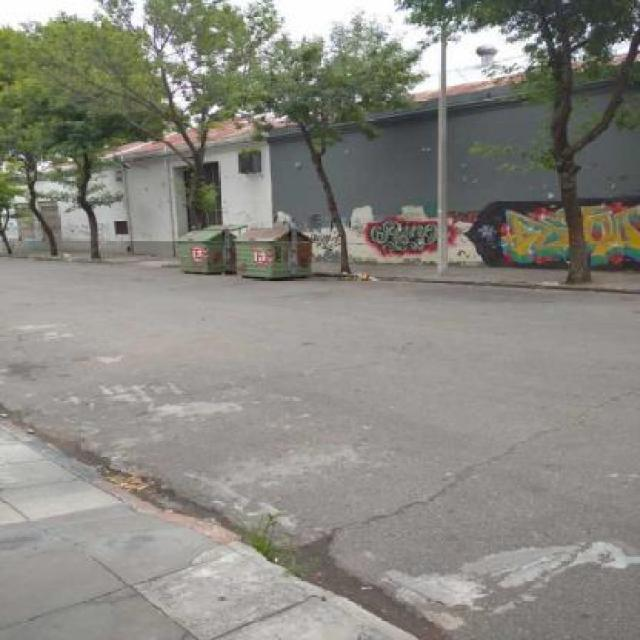garbage: (331, 265, 380, 282)
